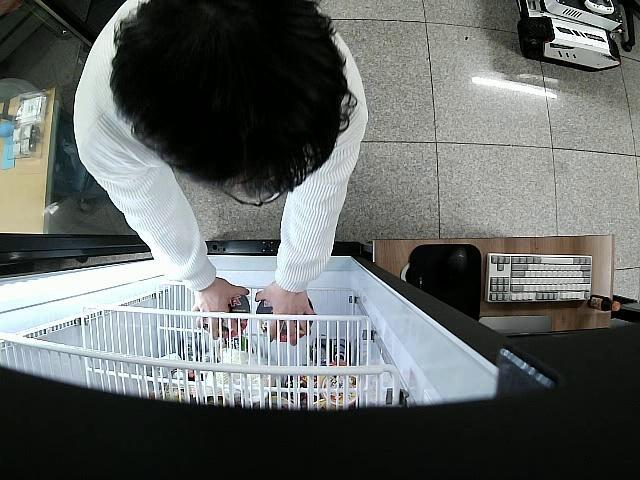07_buldak_L: (255, 294, 312, 342), (200, 287, 250, 336)
